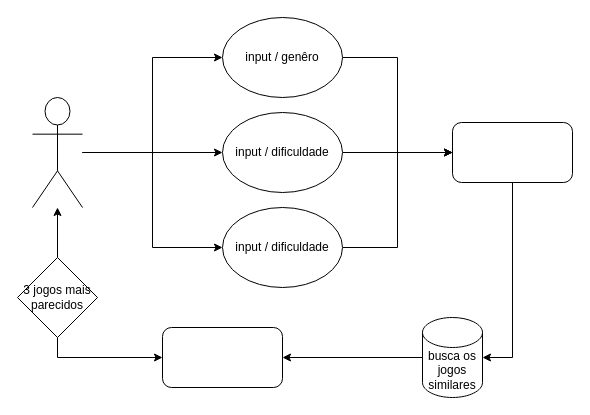
Some shapes in this 590 by 415 pixel diagram are drawn without their labels. Each missing label, with the centre of its shape:
"cria um jogo com os atributos fornecidos" belongs at point (512, 152).
"faz uma lista dos 3 mais similares" belongs at point (222, 357).
"user" belongs at point (57, 152).
